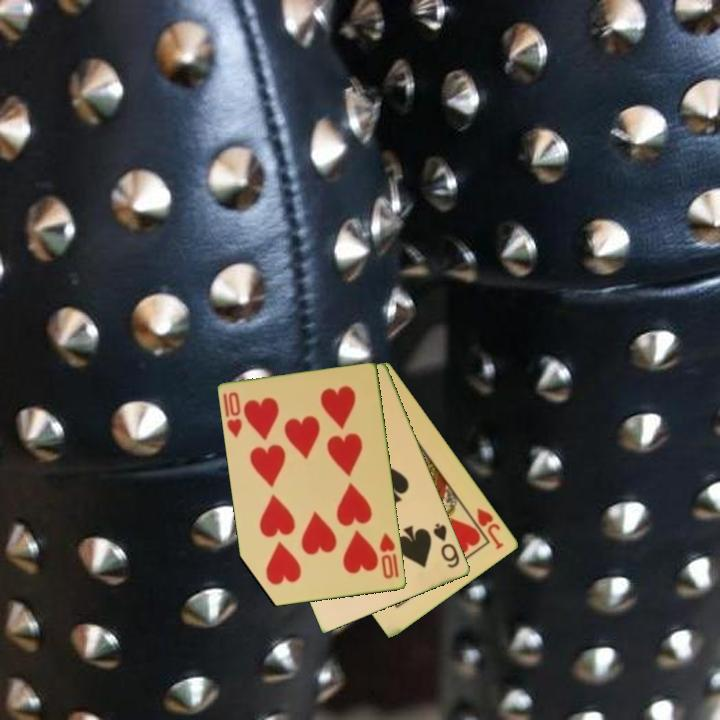10h: (220, 389, 245, 441), (376, 529, 398, 582)
6s: (430, 520, 463, 571)
Jh: (465, 504, 507, 553)
